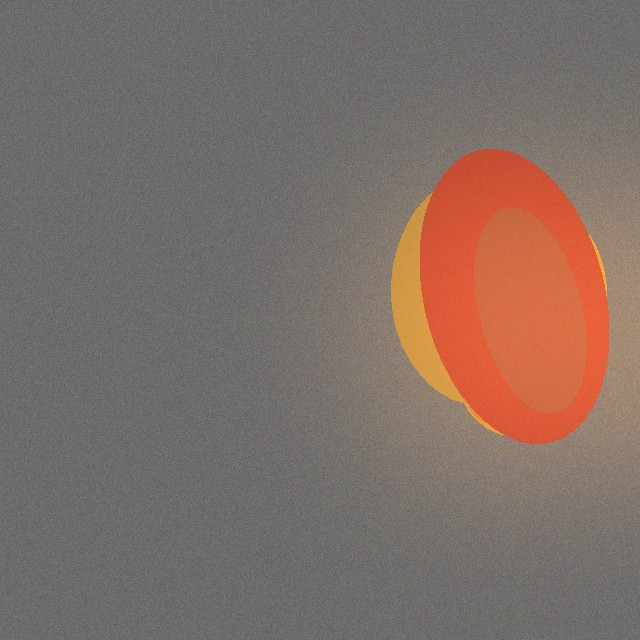fire: (413, 247, 627, 407)
